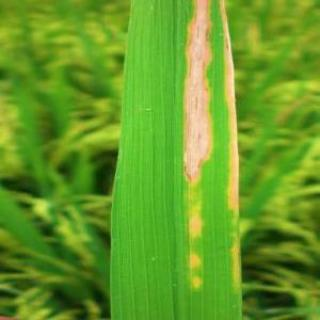Hawar-Daun: (183, 2, 249, 214)
